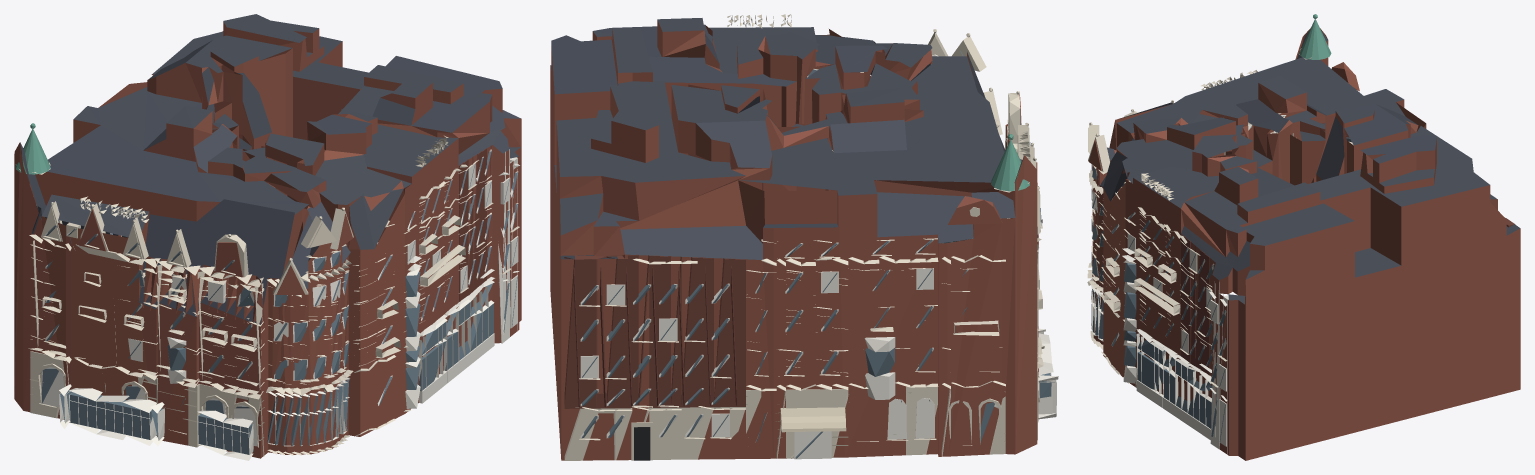
Rendered from hotel-de-l-europe.lod1.glb.
3 views of the same model, side by side, from view 1: azimuth 30°, elevation 25°; view 2: azimuth 150°, elevation 25°; view 3: azimuth 270°, elevation 25° (orthographic). The views are drawn at different scales.
Visible parts, largest first — view 1: hotel-de-l-europe; view 2: hotel-de-l-europe; view 3: hotel-de-l-europe.
Boxes of the visible parts, x1,y1,x2,y2 form: hotel-de-l-europe: (14, 14, 521, 460); hotel-de-l-europe: (550, 14, 1058, 460); hotel-de-l-europe: (1087, 14, 1520, 460).
Size of the model in its own units: 52.5 by 29.85 by 47.
